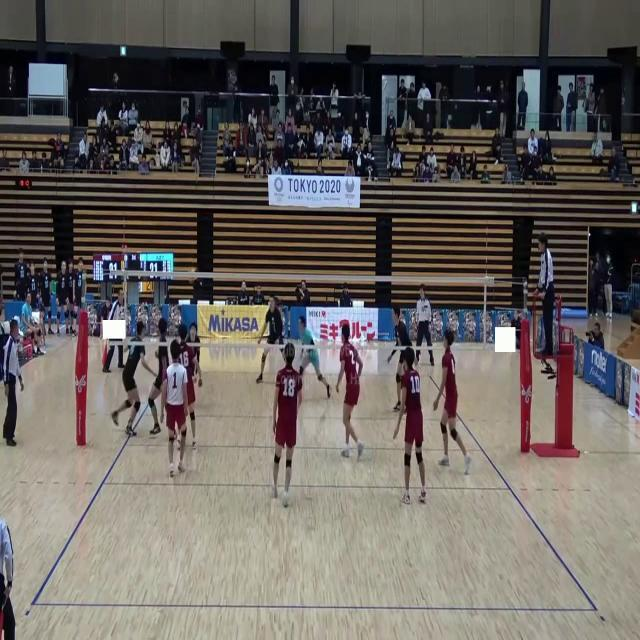volleyball: (188, 269, 200, 283)
